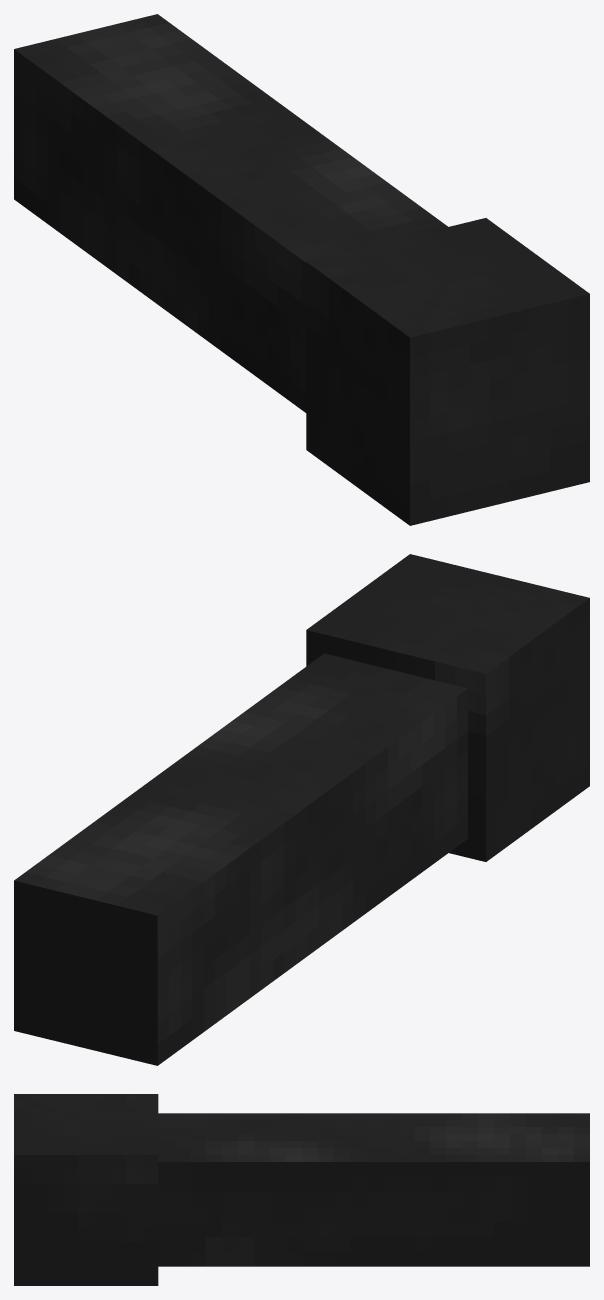
3 views of the same model, one above another, from view 1: azimuth 30°, elevation 25°; view 2: azimuth 150°, elevation 25°; view 3: azimuth 270°, elevation 25° (orthographic). The views are drawn at different scales.
Visible parts, largest first — view 1: Cube; view 2: Cube; view 3: Cube.
Part boxes in pixels (x1=…): Cube: x1=14, y1=14, x2=589, y2=525; Cube: x1=14, y1=554, x2=589, y2=1065; Cube: x1=14, y1=1094, x2=589, y2=1285.
Bounding box in the file's own units: 57.37 × 57.37 × 229.
1 material, 1 textured.
